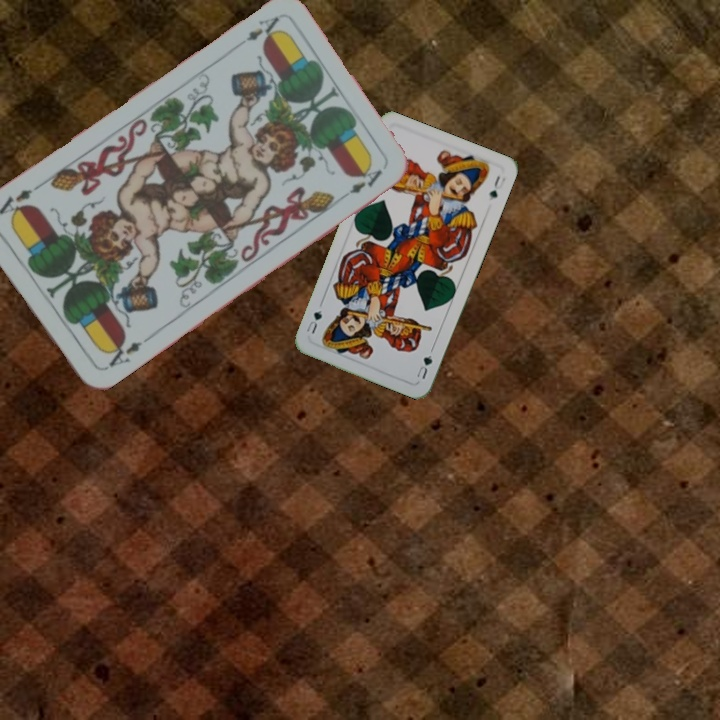EA: (100, 335, 145, 373), (242, 13, 284, 47)
GU: (412, 345, 436, 382)
